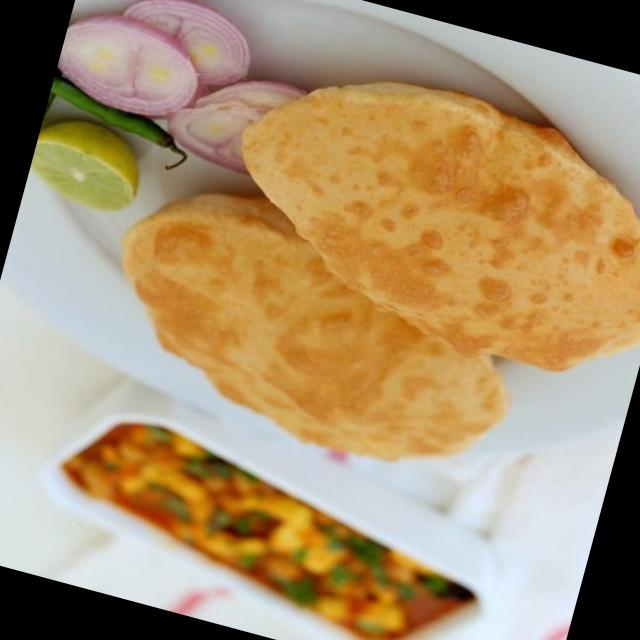Bhatura: (87, 18, 640, 517)
